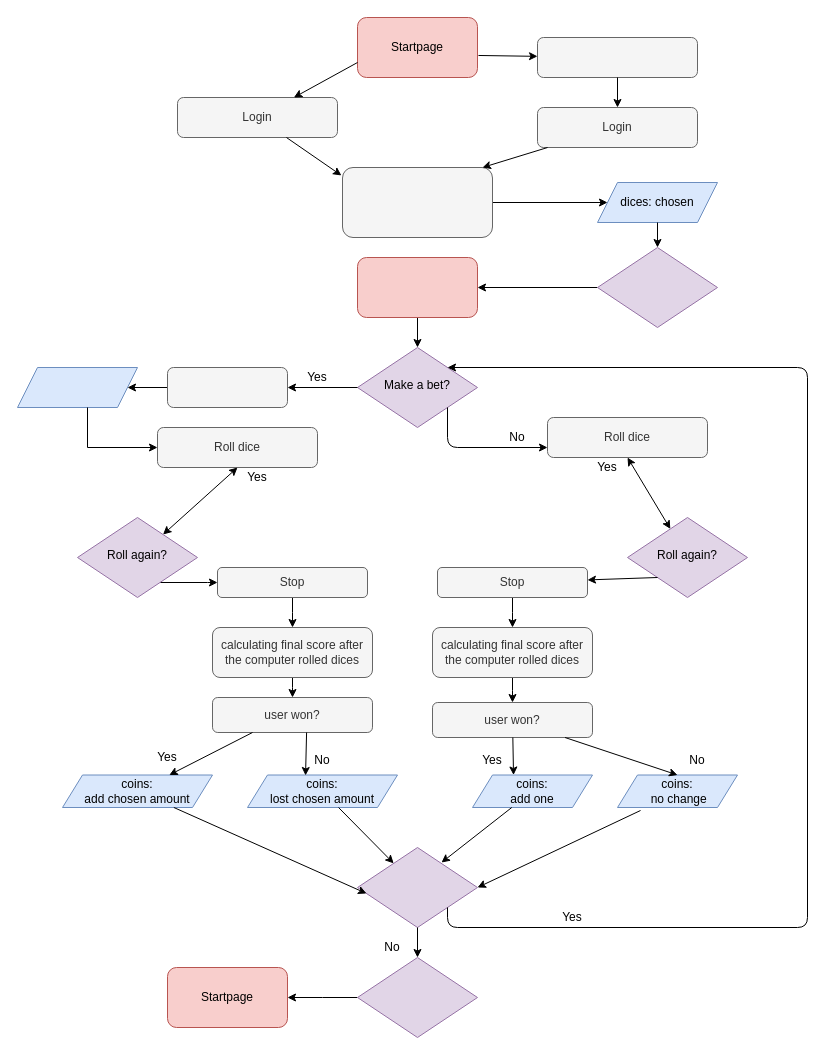
This 833x1055 diagram has some shape labels left out. Each missing label, with the centre of its shape:
Choose how many coins to bet: pixel 227 387
Choose one or two dices to play with: pixel 417 202
coins: chosen: pixel 77 387
End Game?: pixel 417 997
Game page: pixel 417 287
New Round?: pixel 417 887
Register: pixel 617 57
Start Game?: pixel 657 287
